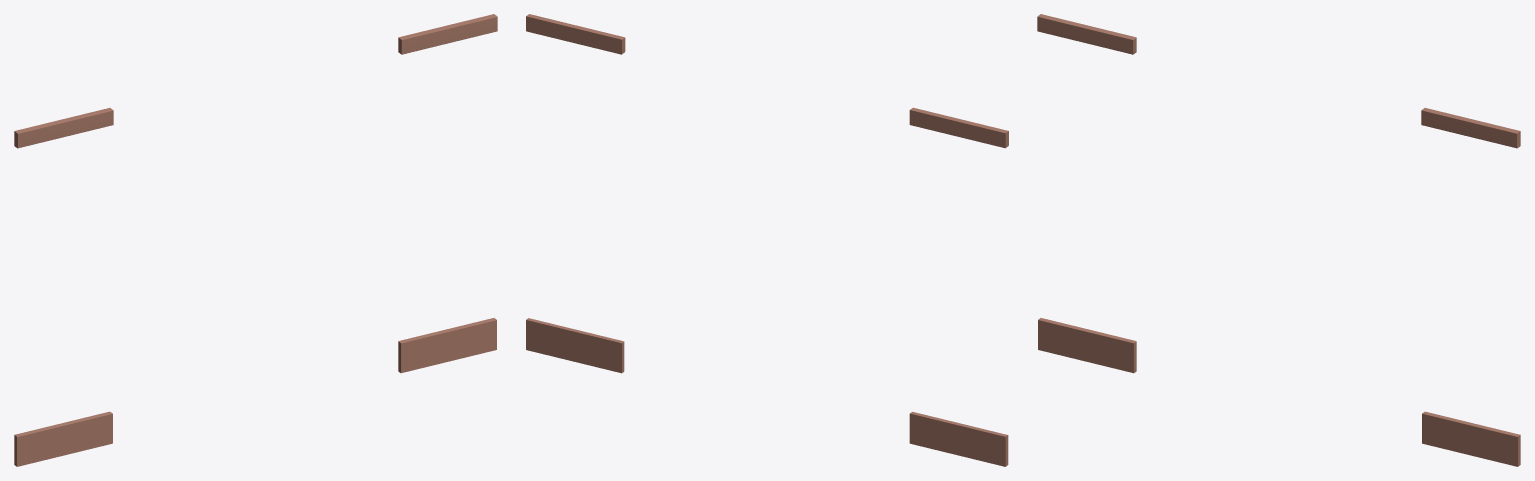
File: wall-door-trims.glb
3 views of the same model, side by side, from view 1: azimuth 30°, elevation 25°; view 2: azimuth 150°, elevation 25°; view 3: azimuth 330°, elevation 25° (orthographic).
Parts seen in each view (by area): view 1: wall-door-trims; view 2: wall-door-trims; view 3: wall-door-trims.
Boxes of the visible parts, bbox=[...] form: wall-door-trims: bbox=[14, 14, 497, 466]; wall-door-trims: bbox=[526, 14, 1008, 466]; wall-door-trims: bbox=[1037, 14, 1520, 466].
Bounding box in the file's own units: 2 × 1.33 × 0.025.
